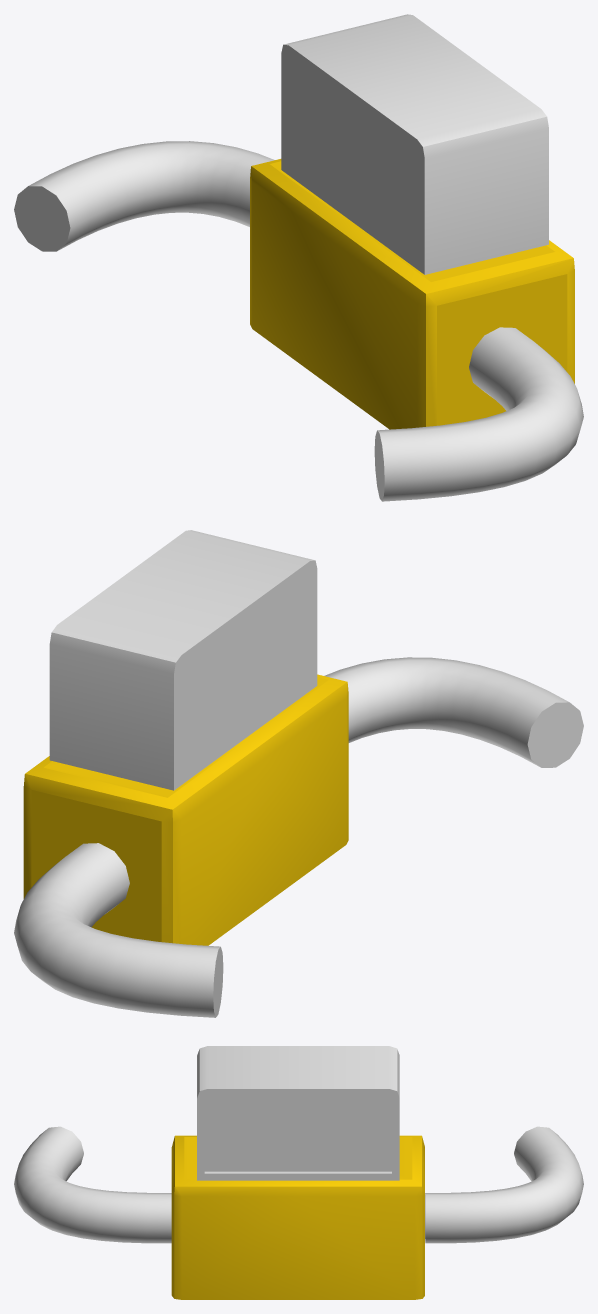
File: Themachine.fbx
The picture shows the model from 3 angles, top to bottom: view 1: azimuth 30°, elevation 25°; view 2: azimuth 150°, elevation 25°; view 3: azimuth 270°, elevation 25°; orthographic projection. The views are drawn at different scales.
Visible parts, largest first — view 1: Box001, Cube_10, Line002, Line003; view 2: Box001, Cube_10, Line003, Line002; view 3: Cube_10, Box001, Line003, Line002.
Boxes of the visible parts, box(x1,y1,x2,y2) form: Box001: box(281, 14, 548, 274); Cube_10: box(250, 159, 574, 429); Line002: box(374, 327, 583, 501); Line003: box(14, 141, 274, 251); Box001: box(49, 530, 317, 790); Cube_10: box(23, 674, 348, 945); Line003: box(14, 843, 223, 1017); Line002: box(324, 657, 583, 767); Cube_10: box(171, 1135, 424, 1299); Box001: box(197, 1046, 399, 1180); Line003: box(425, 1126, 583, 1243); Line002: box(14, 1126, 171, 1243).
Size of the model in its own units: 4.67 by 4.5 by 11.25.
